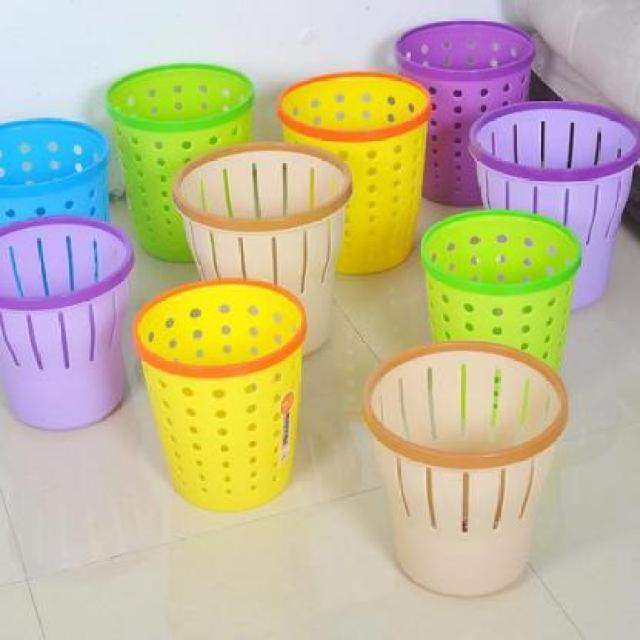dustbin: (359, 335, 573, 601), (129, 275, 311, 517), (169, 138, 356, 362), (417, 206, 584, 432), (466, 99, 639, 312), (272, 68, 435, 279), (102, 60, 260, 265), (0, 212, 139, 436), (391, 17, 542, 211), (0, 114, 114, 305)
